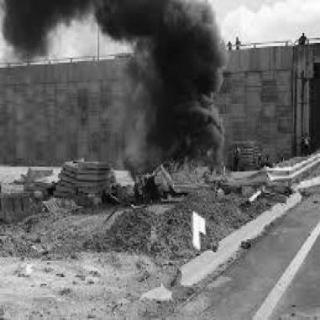Fire: (164, 195, 184, 201)
